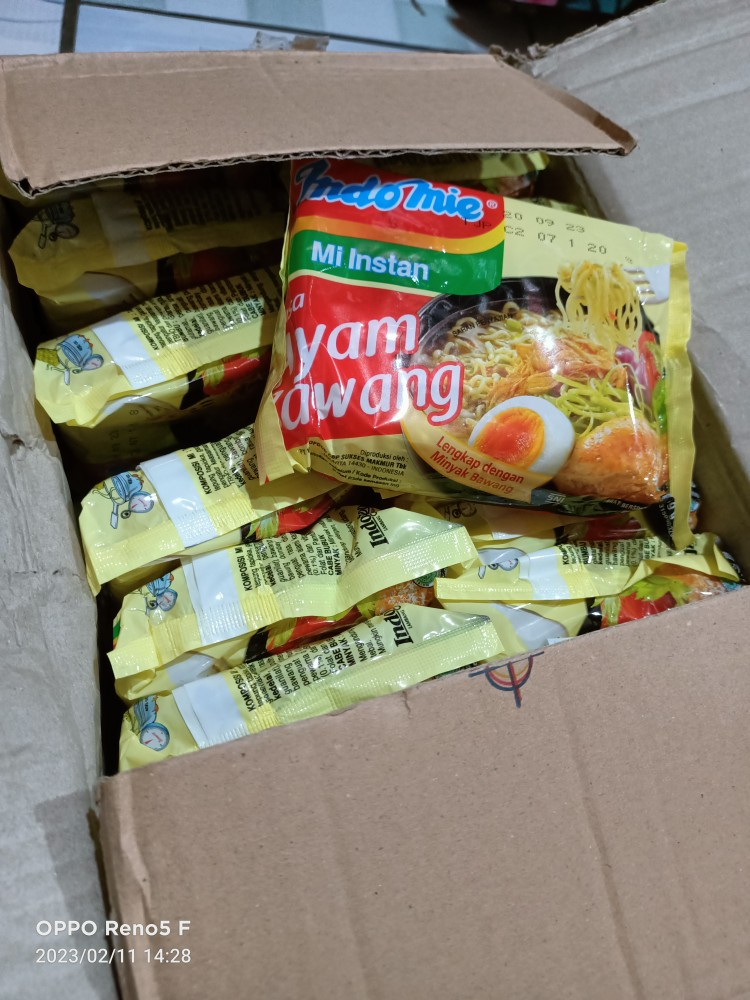Indomie Ayam Bawang (69g): (259, 167, 699, 544)
